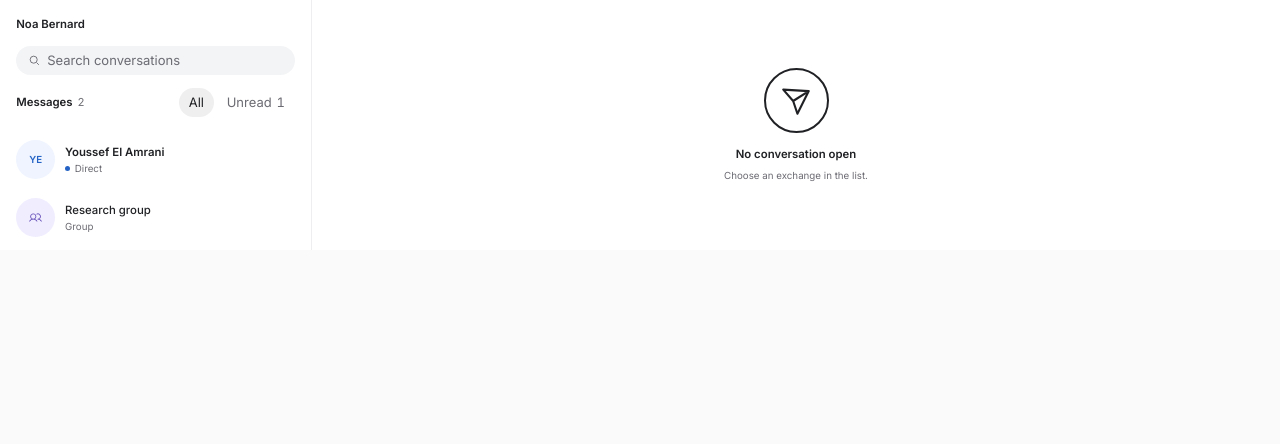
messages page › keeps separate drafts when moving between conversations and groups messages by date
Click the link "YE Youssef El Amrani Direct".
click(90, 159)  # box [16,140,164,179]
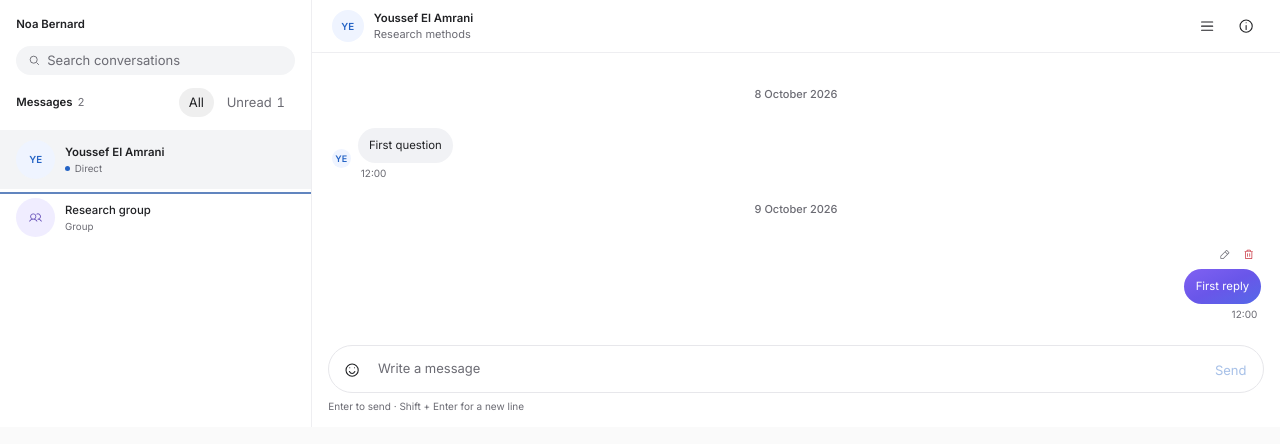
Now the number of list items named "Message date" is 2, box [754,87,838,101]; [754,202,838,216]
Type "Draft for Youssef" into the text box labelled "message".
click(787, 369); type("Draft for Youssef")  # box [372,351,1202,387]
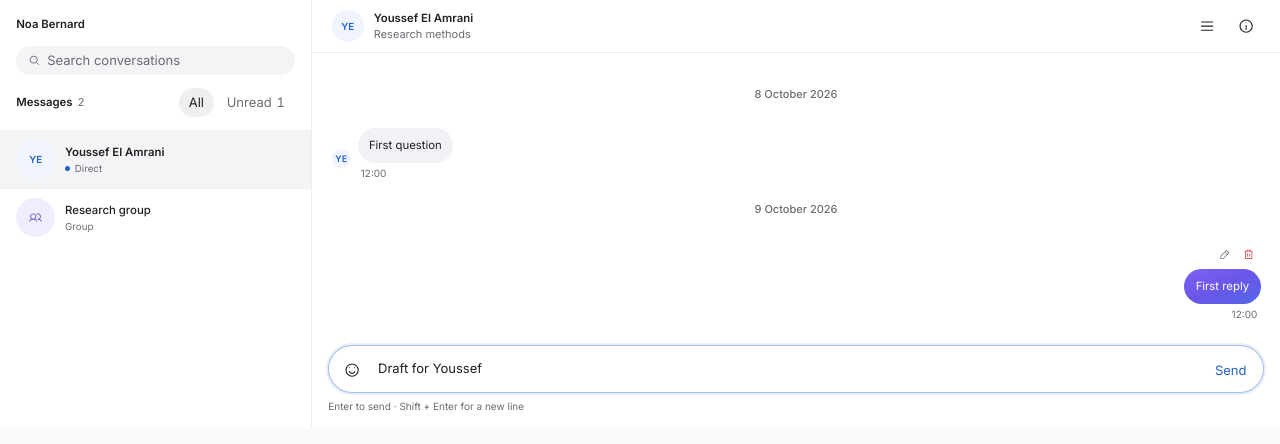
Click the link "Research group Group".
click(84, 218)  # box [16,198,151,237]
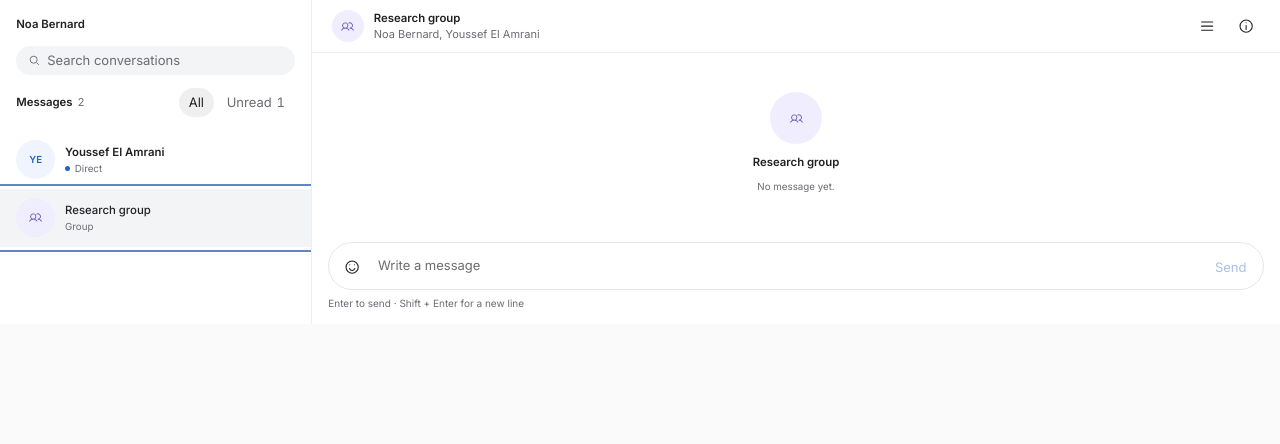
Now the text box labelled "message" is empty
Type "Group draft" into the text box labelled "message".
click(787, 266); type("Group draft")  # box [372,248,1202,284]
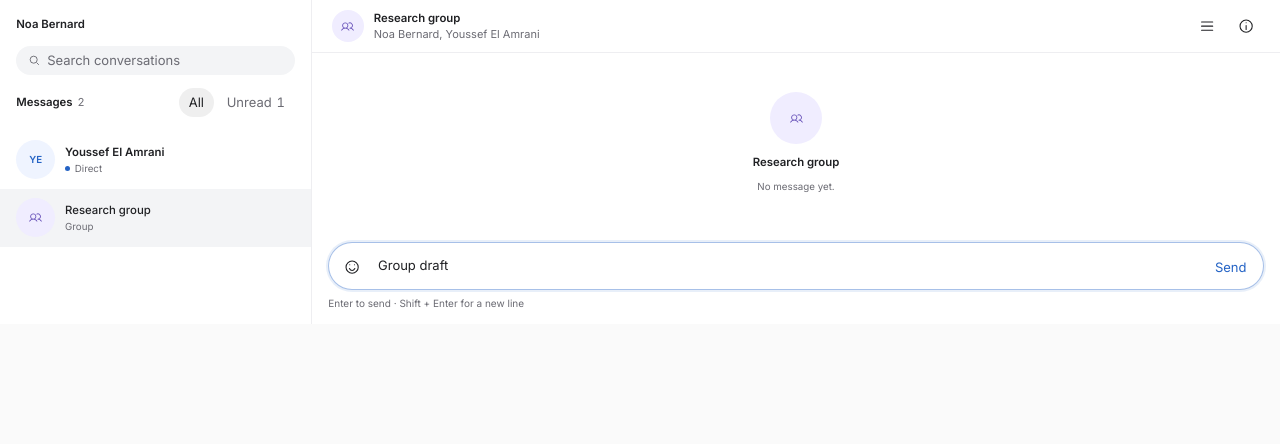
Click the link "YE Youssef El Amrani Direct".
click(90, 159)  # box [16,140,164,179]
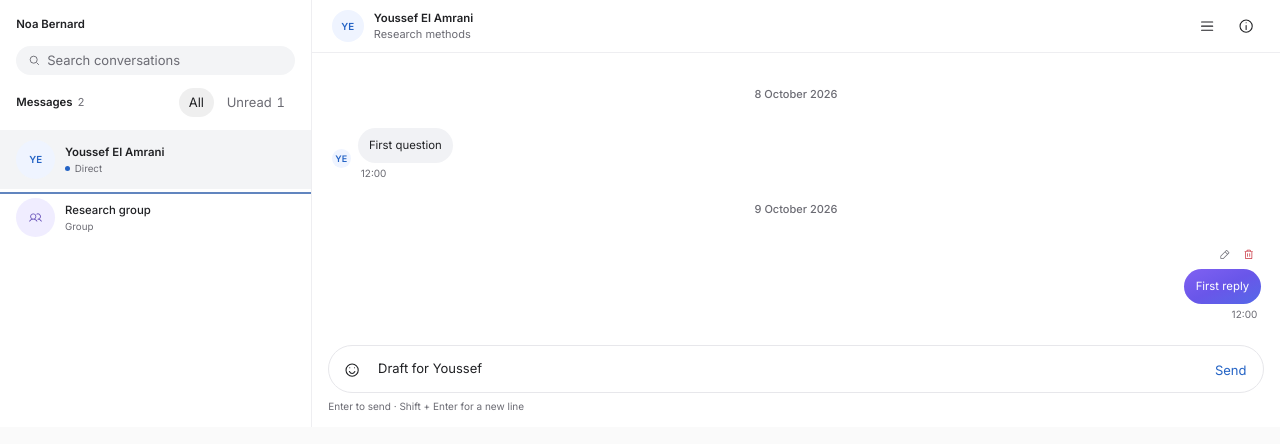
Now the text box named "message" holds "Draft for Youssef", box [372,351,1202,387]
